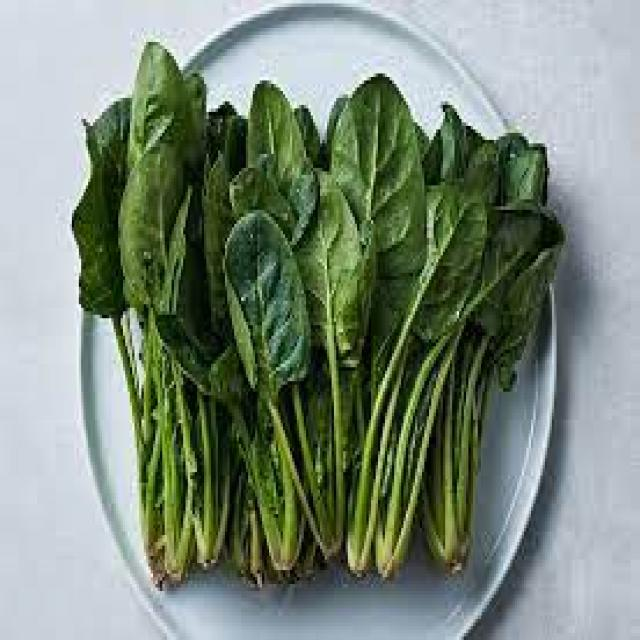Spinach bagged/loose: (283, 77, 566, 575), (72, 42, 318, 584)
